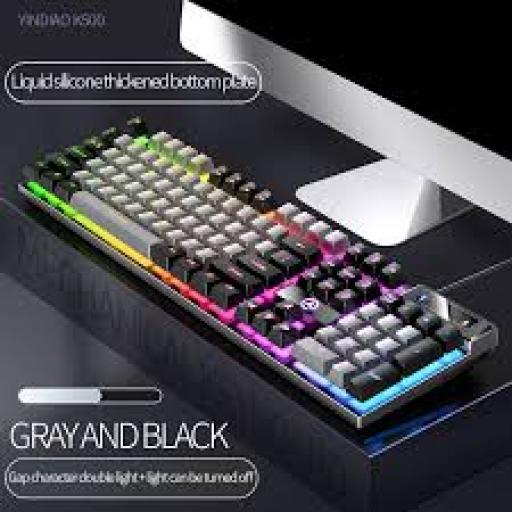keyboard: (23, 116, 496, 426)
